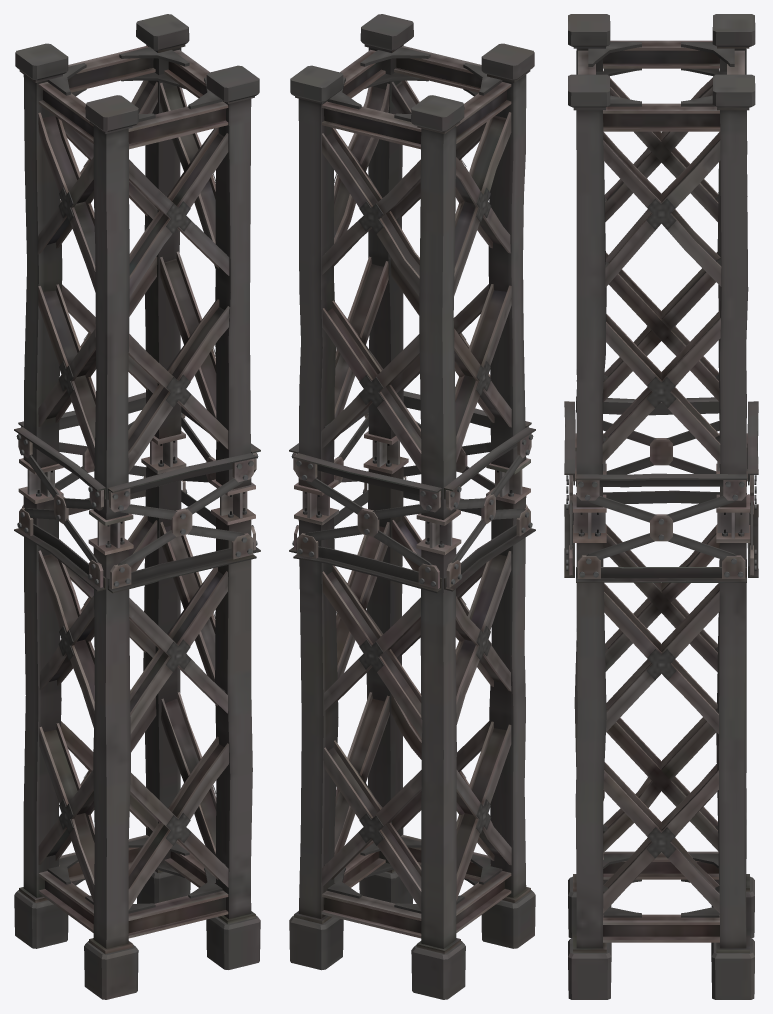
File: SM_Pillar_Iron_c34512.glb
3 views of the same model, side by side, from view 1: azimuth 30°, elevation 25°; view 2: azimuth 150°, elevation 25°; view 3: azimuth 270°, elevation 25° (orthographic). The views are drawn at different scales.
Size of the model in its own units: 0.6473 by 3.33 by 0.6467.
Materials: 1 (1 with a texture image).
